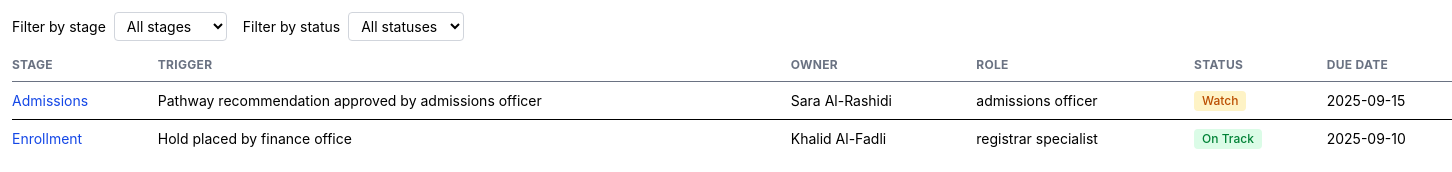
Test case: WorkflowList › filters rows to only show the selected status
Step 1. Select "pending" in the dropdown labelled "Filter by status" → (406, 26), box [348,12,464,41]
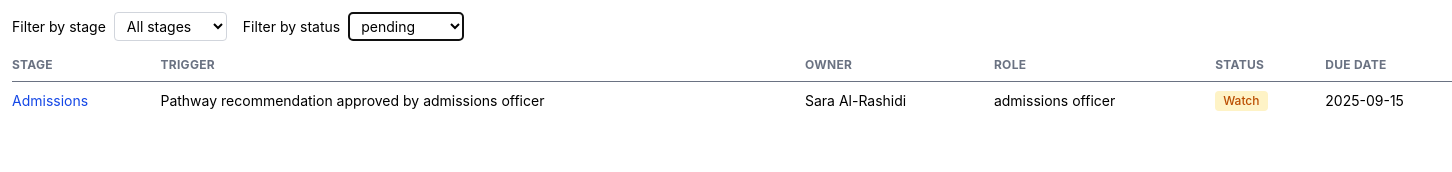
Expected: the text "Sara Al-Rashidi" is shown, [805,82,994,119]
Expected: the text "Khalid Al-Fadli" is gone
